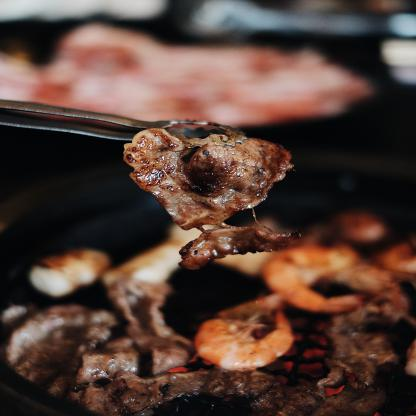Carne: (122, 117, 308, 251), (0, 328, 277, 416), (321, 314, 415, 415)
